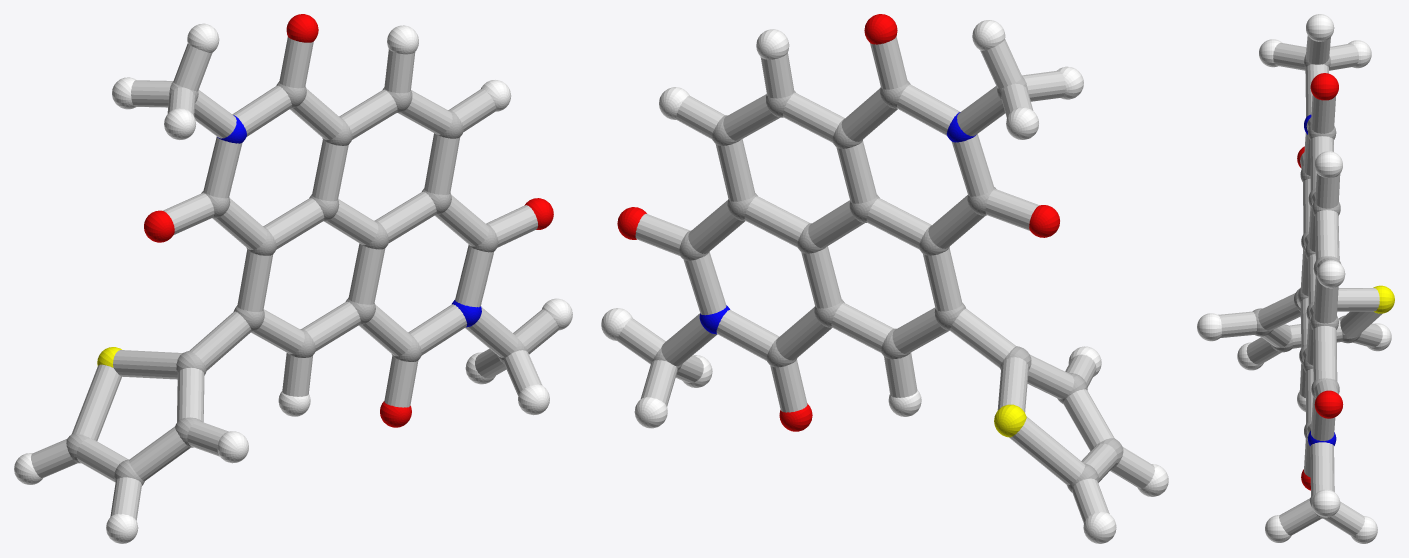
File: Dimethyl_Naphthalene_Dicarboximide_Phi_15_Theta_260_Thiophene.glb
The picture shows the model from 3 angles, left to right: view 1: azimuth 30°, elevation 25°; view 2: azimuth 150°, elevation 25°; view 3: azimuth 270°, elevation 25°; orthographic projection. The views are drawn at different scales.
Visible parts, largest first — view 1: grp14119, grp7241, grp1, grp12309, grp11585; view 2: grp14119, grp7241, grp1, grp12309, grp13757, grp11585; view 3: grp14119, grp7241, grp1, grp12309, grp13757.
Boxes of the visible parts, <box> form: grp14119: <box>31,37,558,520</box>; grp7241: <box>14,23,572,543</box>; grp1: <box>66,81,527,485</box>; grp12309: <box>144,14,553,427</box>; grp11585: <box>217,115,481,327</box>; grp14119: <box>617,36,1154,523</box>; grp7241: <box>601,20,1168,543</box>; grp1: <box>652,77,1123,492</box>; grp12309: <box>617,14,1059,431</box>; grp13757: <box>994,404,1026,437</box>; grp11585: <box>699,112,976,334</box>; grp14119: <box>1218,35,1382,536</box>; grp7241: <box>1197,14,1391,543</box>; grp1: <box>1252,54,1361,518</box>; grp12309: <box>1297,73,1343,490</box>; grp13757: <box>1373,285,1394,313</box>.
Size of the model in its own units: 11.31 by 9.46 by 4.18.
